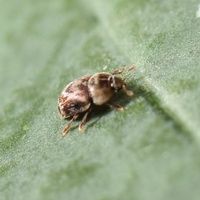insect: (58, 65, 135, 135)
